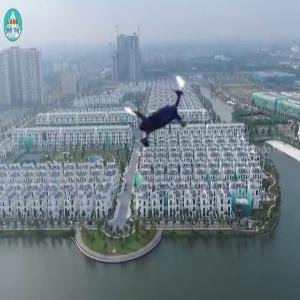drone: (107, 66, 209, 168)
